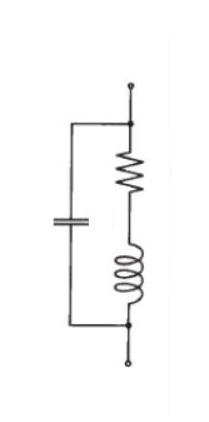resistor: (108, 130, 150, 202)
